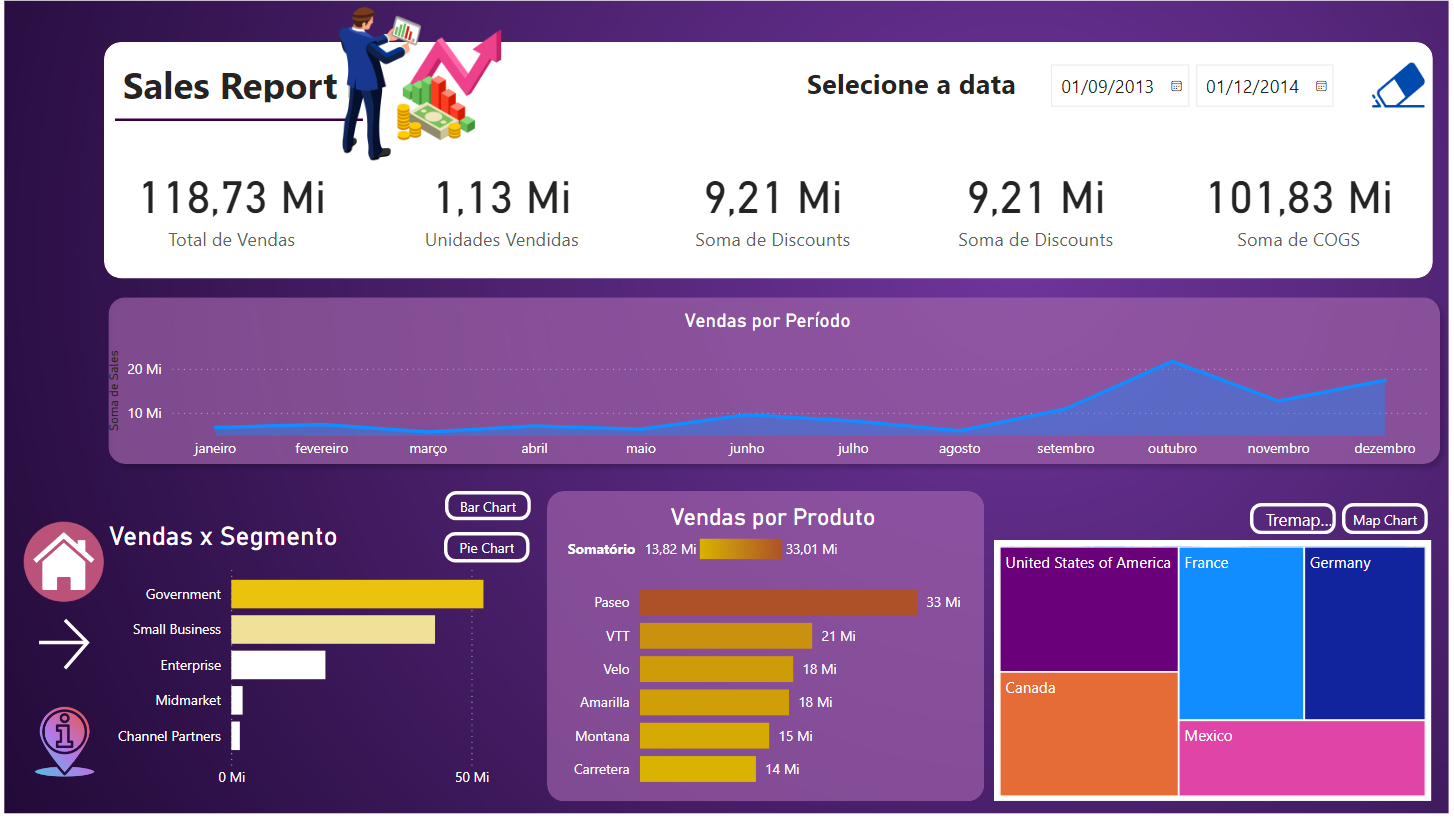

The dashboard page shown, as its layout file describes it:
{"tool":"powerbi","page":{"name":"Principal","canvas":[1280,720],"ordinal":1},"visuals":[{"type":"image","title":"fundo_purple","box":[0,0,1280.3,720],"z":0},{"type":"shape","box":[95.8,41.1,1161.3,206.6],"z":0,"group":"g4"},{"type":"shape","box":[90.5,255.5,1181.8,163.7],"z":0,"group":"g3"},{"type":"map","title":"Sales x Country","fields":{"Category":["financials.Country"],"Size":["Sum(financials. Sales)"]},"box":[873.8,476.1,382,228.1],"z":0,"group":"g1"},{"type":"shape","box":[105.6,92.2,216.7,32.8],"z":1000,"group":"g4"},{"type":"areaChart","title":"Vendas por Período","fields":{"Category":["financials.Date.Variation.Hierarquia de datas.Trimestre","financials.Date.Variation.Hierarquia de datas.Mês"],"Y":["Sum(financials. Sales)"]},"box":[94.3,274.7,1163.2,139.7],"z":1000,"group":"g3"},{"type":"clusteredBarChart","title":"Vendas x Segmento","fields":{"Category":["financials.Segment"],"Y":["Sum(financials. Sales)"]},"box":[94.9,459.3,383.9,242.3],"z":1000,"group":"g2"},{"type":"treemap","title":"Sales x Country","fields":{"Group":["financials.Country"],"Values":["Sum(financials. Sales)"]},"box":[873.8,477.5,382,228.1],"z":1000,"group":"g1"},{"type":"actionButton","title":"Botão - Next","box":[32.4,539.2,58,56.3],"z":1000},{"type":"slicer","fields":{"Values":["financials.Date"]},"box":[909.8,50.5,272.2,55.6],"z":2000,"group":"g4"},{"type":"actionButton","title":"Botão - bar","box":[393.4,432.9,75.1,25.6],"z":2000,"group":"g2"},{"type":"shape","box":[482.9,433.4,382.2,271.3],"z":2000},{"type":"actionButton","title":"Botão - map","box":[1177.5,444.2,75.1,27.3],"z":2000,"group":"g1"},{"type":"textbox","box":[704.6,56.2,199.6,45.6],"z":3000,"group":"g4"},{"type":"group","id":"g1","title":"Sales x país","box":[873.8,444.2,382,261.4],"z":3000},{"type":"actionButton","title":"Botão - tremap","box":[1097.3,444.2,75.1,27.3],"z":3000,"group":"g1"},{"type":"actionButton","title":"Botão -pie","box":[393.2,469.1,74.8,26.6],"z":3000,"group":"g2"},{"type":"card","fields":{"Values":["Sum(financials.Units Sold)"]},"box":[338.3,130.3,211,105.5],"z":4000,"group":"g4"},{"type":"clusteredBarChart","title":"Vendas por Produto","fields":{"Y":["Sum(financials. Sales)"],"Category":["financials.Product"]},"box":[496.5,443.6,368.6,261.1],"z":4000},{"type":"textbox","box":[107,50.9,215.2,48.5],"z":5000,"group":"g4"},{"type":"group","id":"g2","title":"Sales x Segmento","box":[94.9,429.7,387.6,271.9],"z":5000},{"type":"actionButton","box":[1196.3,54.7,59.9,51.3],"z":6000,"group":"g4"},{"type":"group","id":"g3","title":"Perspectiva temporal das vendas","box":[90.5,255.5,1181.8,163.7],"z":6000},{"type":"group","id":"g4","title":"Filtro por data","box":[95.8,0,1161.8,247.5],"z":7000},{"type":"card","fields":{"Values":["Sum(financials.Discounts)"]},"box":[804.4,130.3,211,105.5],"z":7000,"group":"g4"},{"type":"image","title":"clean","box":[1196.3,50.5,59.9,55.6],"z":8000,"group":"g4"},{"type":"image","box":[26.1,615.8,71.5,72.8],"z":8000},{"type":"card","fields":{"Values":["Sum(financials.Discounts)"]},"box":[574.9,130.3,211,105.5],"z":9000,"group":"g4"},{"type":"actionButton","box":[31.6,615.8,63.2,72.8],"z":9000},{"type":"card","fields":{"Values":["Sum(financials.COGS)"]},"box":[1033.9,130.3,211,105.5],"z":10000,"group":"g4"},{"type":"image","box":[21.1,455.6,80,80],"z":10000},{"type":"card","fields":{"Values":["Sum(financials. Sales)"]},"box":[101.6,130.3,211,105.5],"z":11000,"group":"g4"},{"type":"image","box":[265.1,0,252.9,155.7],"z":12000,"group":"g4"}]}

Visuals, with their boxes in screenshot pixels (x1, y1, x2, y2), scaled from the page's 1280x720 canvas onto the 1454x818 screenshot:
"fundo_purple" image: rect(0, 0, 1453, 817)
shape: rect(109, 47, 1428, 281)
shape: rect(103, 290, 1445, 476)
"Sales x Country" map: rect(993, 541, 1427, 800)
shape: rect(120, 105, 366, 142)
"Vendas por Período" areaChart: rect(107, 312, 1428, 471)
"Vendas x Segmento" clusteredBarChart: rect(108, 522, 544, 797)
"Sales x Country" treemap: rect(993, 542, 1427, 802)
"Botão - Next" actionButton: rect(37, 613, 103, 677)
slicer - financials.Date: rect(1033, 57, 1343, 121)
"Botão - bar" actionButton: rect(447, 492, 532, 521)
shape: rect(549, 492, 983, 801)
"Botão - map" actionButton: rect(1338, 505, 1423, 536)
textbox: rect(800, 64, 1027, 116)
"Sales x país" group: rect(993, 505, 1427, 802)
"Botão - tremap" actionButton: rect(1246, 505, 1332, 536)
"Botão -pie" actionButton: rect(447, 533, 532, 563)
card - Sum(financials.Units Sold): rect(384, 148, 624, 268)
"Vendas por Produto" clusteredBarChart: rect(564, 504, 983, 801)
textbox: rect(122, 58, 366, 113)
"Sales x Segmento" group: rect(108, 488, 548, 797)
actionButton: rect(1359, 62, 1427, 120)
"Perspectiva temporal das vendas" group: rect(103, 290, 1445, 476)
"Filtro por data" group: rect(109, 0, 1429, 281)
card - Sum(financials.Discounts): rect(914, 148, 1153, 268)
"clean" image: rect(1359, 57, 1427, 121)
image: rect(30, 700, 111, 782)
card - Sum(financials.Discounts): rect(653, 148, 893, 268)
actionButton: rect(36, 700, 108, 782)
card - Sum(financials.COGS): rect(1174, 148, 1414, 268)
image: rect(24, 518, 115, 609)
card - Sum(financials. Sales): rect(115, 148, 355, 268)
image: rect(301, 0, 588, 177)
